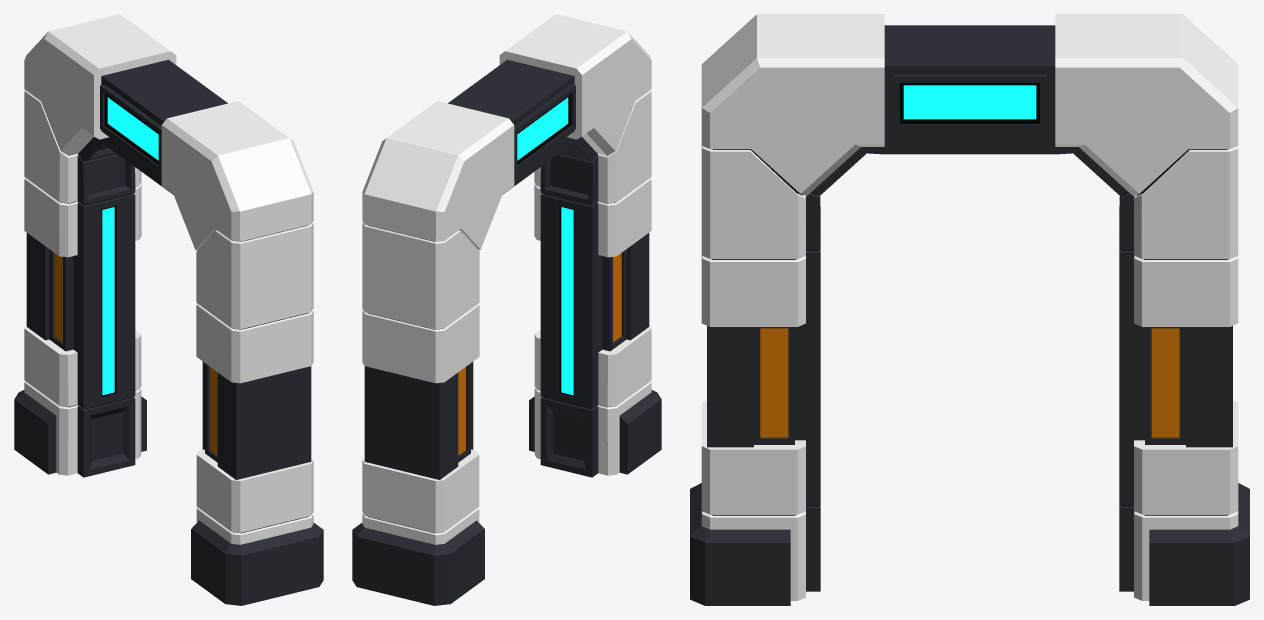
Rendered from SM_BiometricScanner.fbx.
The picture shows the model from 3 angles, left to right: view 1: azimuth 30°, elevation 25°; view 2: azimuth 150°, elevation 25°; view 3: azimuth 270°, elevation 25°; orthographic projection. The views are drawn at different scales.
Visible parts, largest first — view 1: SM_BiometricScanner; view 2: SM_BiometricScanner; view 3: SM_BiometricScanner.
Part boxes in pixels (left/top/right/bottom): SM_BiometricScanner: left=14, top=14, right=323, bottom=605; SM_BiometricScanner: left=352, top=14, right=661, bottom=605; SM_BiometricScanner: left=690, top=14, right=1249, bottom=605.
Size of the model in its own units: 47.91 by 200 by 188.
